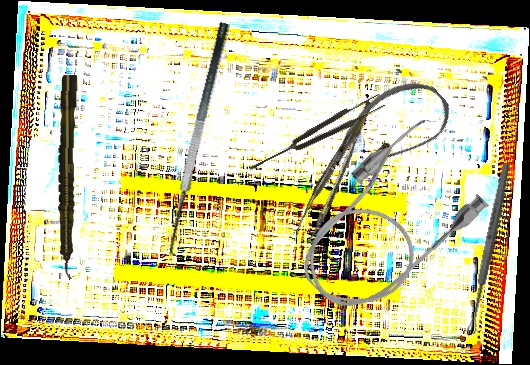Cannula: (275, 110, 498, 333), (320, 64, 461, 200)
Handpiece: (56, 74, 79, 280)
Spatula Surgical: (156, 21, 250, 260)
Surgical Spoon: (465, 162, 512, 335)
Tissue Forceps: (286, 100, 390, 245), (245, 91, 387, 177)
